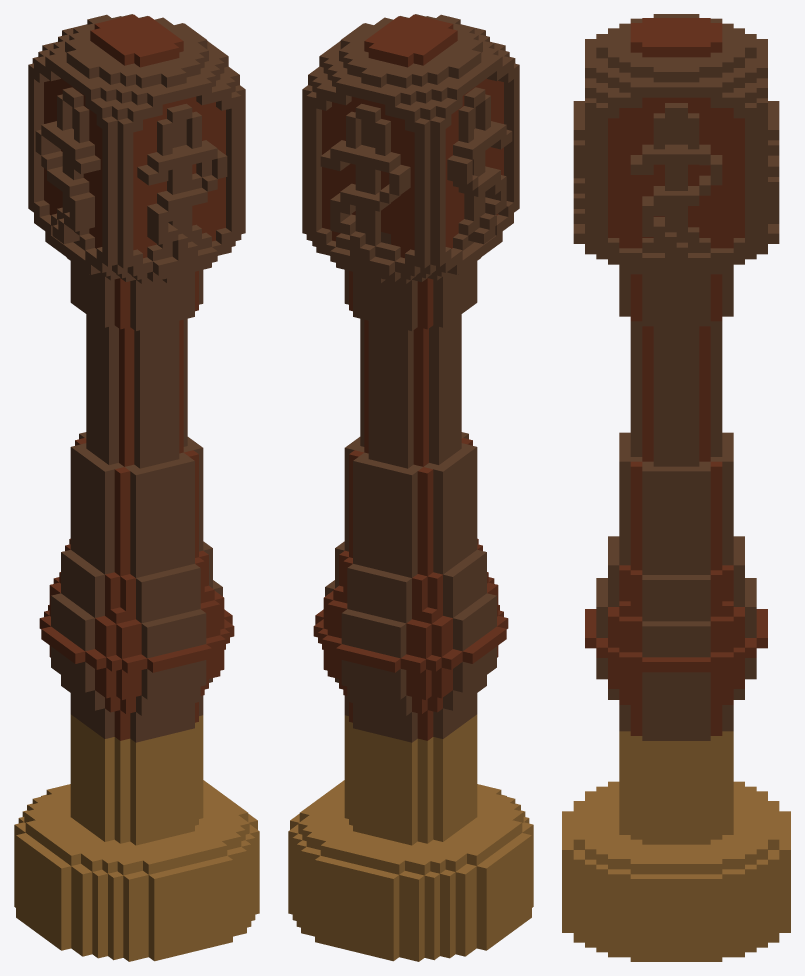
Rendered from tampon-2.obj.
3 renders of one model, left to right at view 1: azimuth 30°, elevation 25°; view 2: azimuth 150°, elevation 25°; view 3: azimuth 270°, elevation 25°, orthographic.
Size of the model in its own units: 2 by 8.5 by 2.
